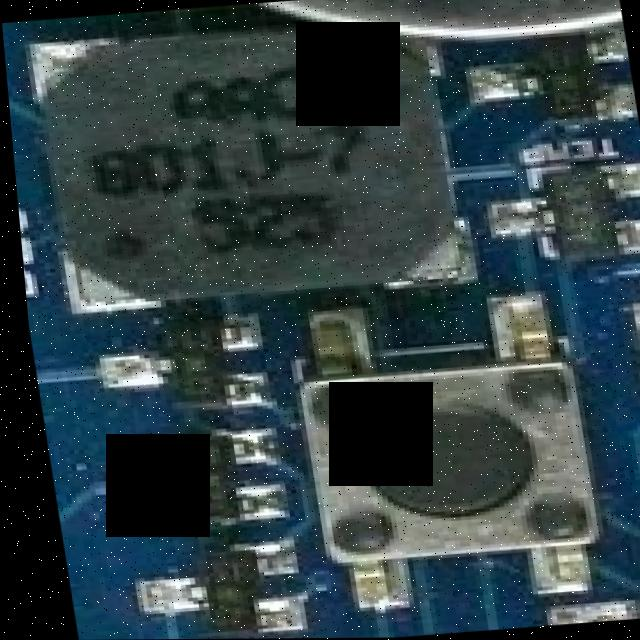2235: (285, 340, 601, 580)
4439: (133, 415, 280, 530), (149, 530, 296, 639), (492, 27, 623, 136), (515, 158, 640, 272), (120, 309, 253, 412)
inductor F1: (35, 20, 458, 307)
